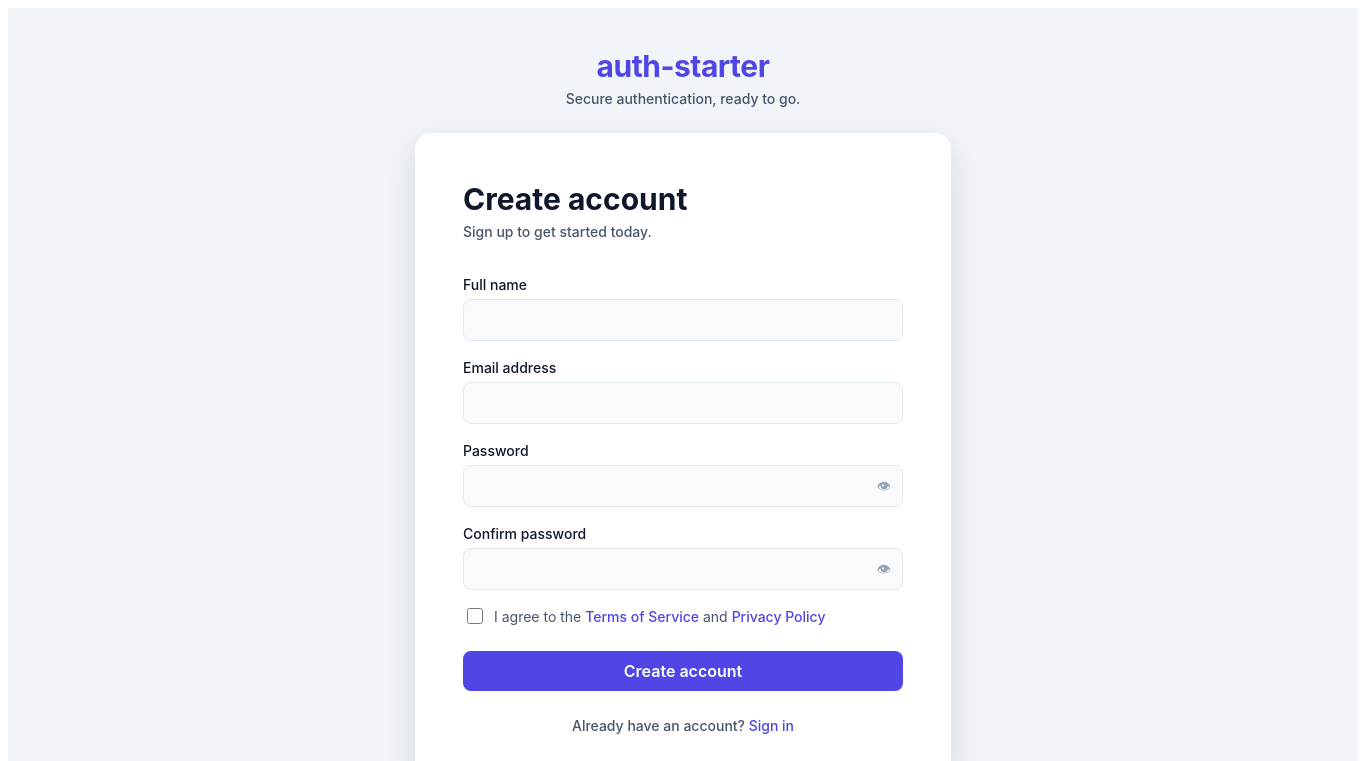
Test case: RegisterPage › inline re-validation after touch › updates password error inline after typing
Type "ab" into the password field labelled "Password" at (683, 486), box 463,465 -> 903,507
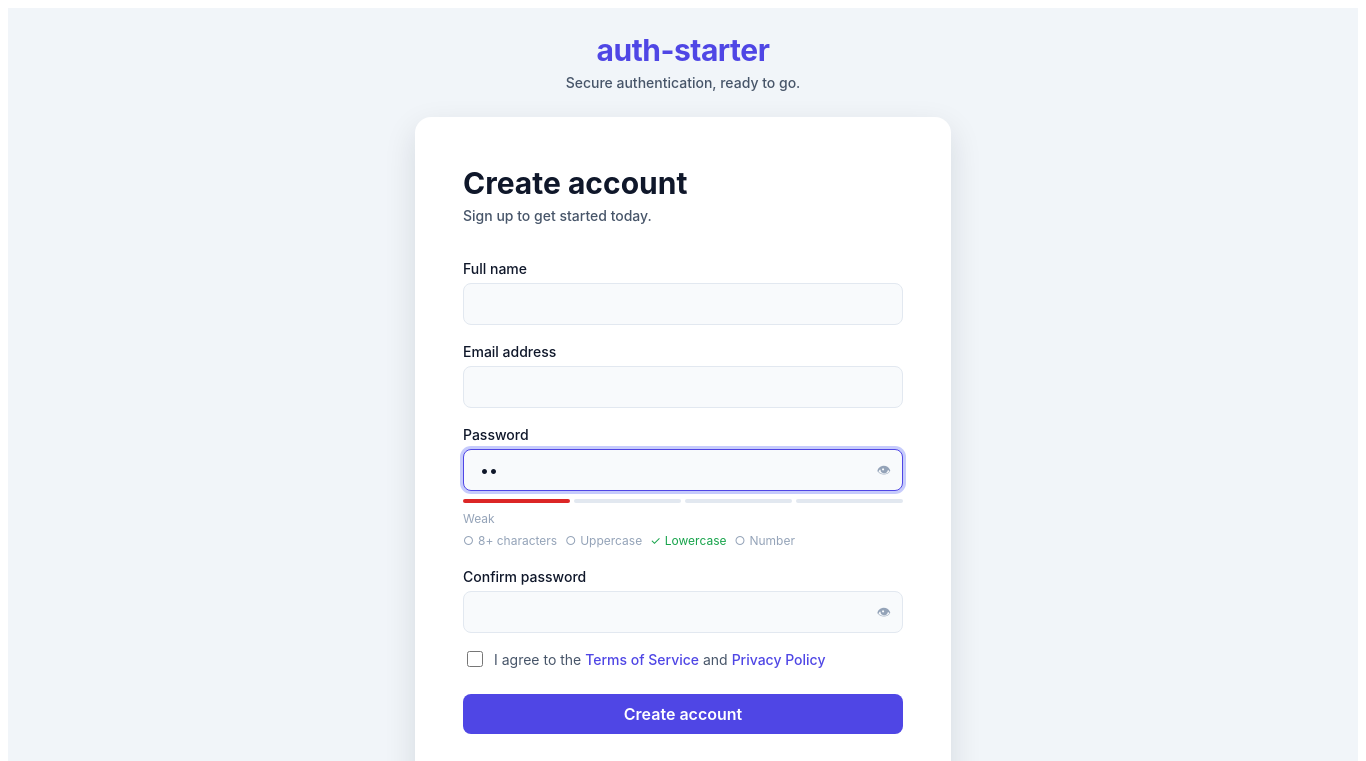
Leave the password field labelled "Password", box 463,449 -> 903,491
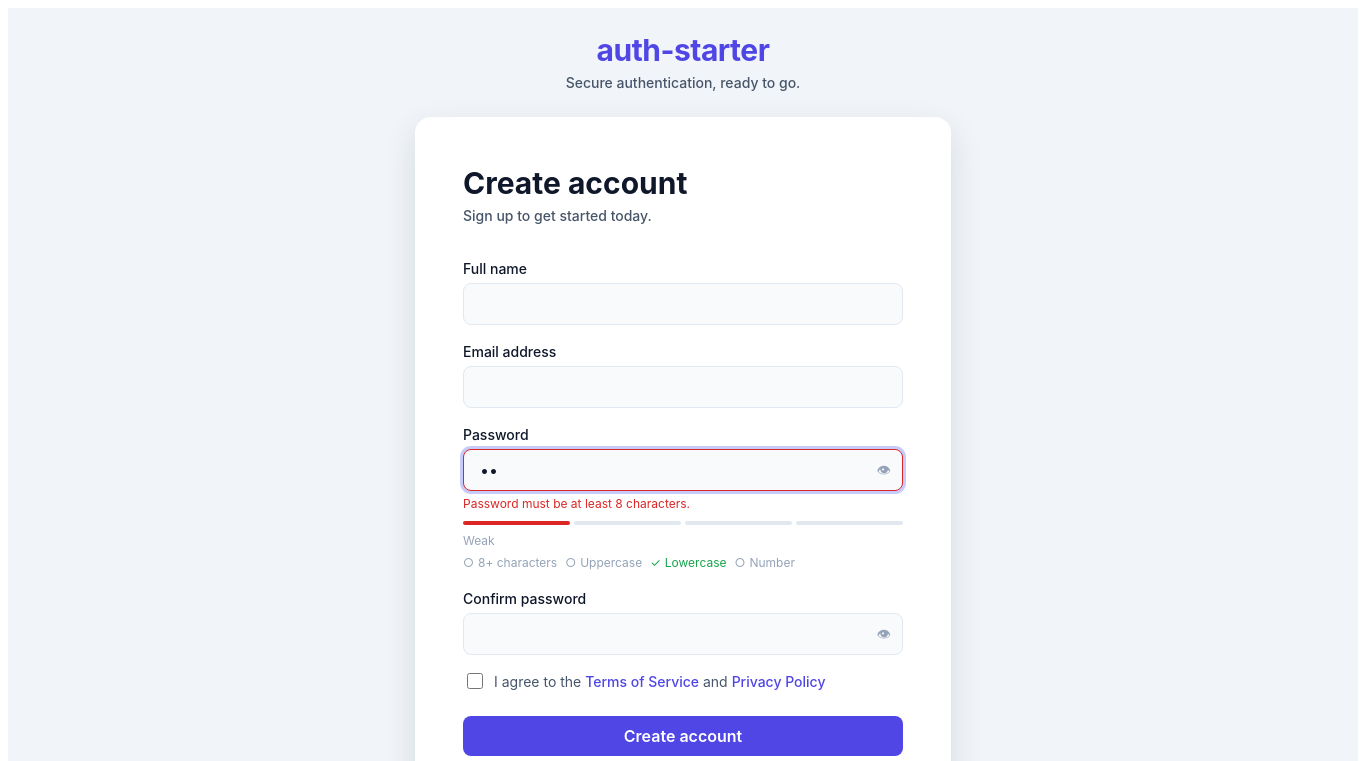
Result: the text "Password must be at least 8 characters." is shown at 463,496 -> 690,511
// type valid password
Clear the password field labelled "Password" at (683, 470), box 463,449 -> 903,491
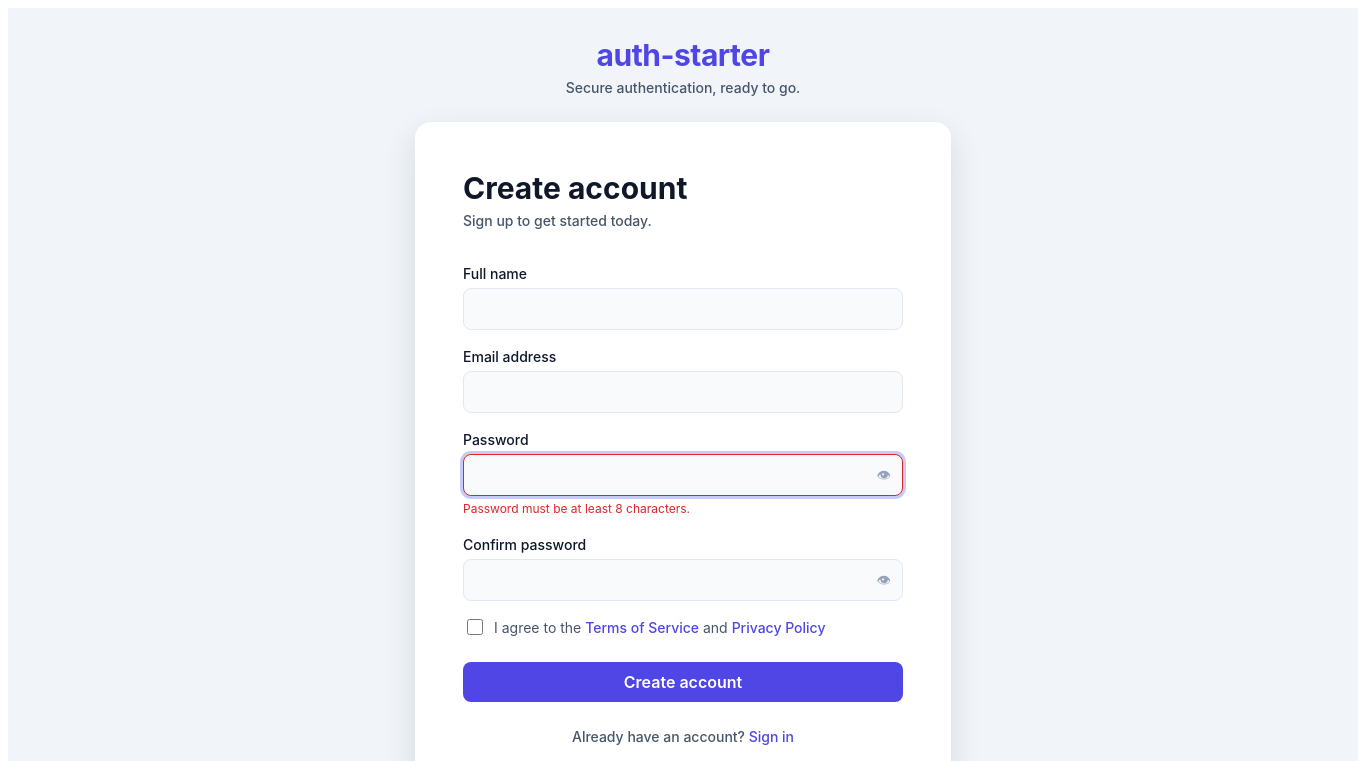
Type "ValidPass1" into the password field labelled "Password" at (683, 475), box 463,454 -> 903,496
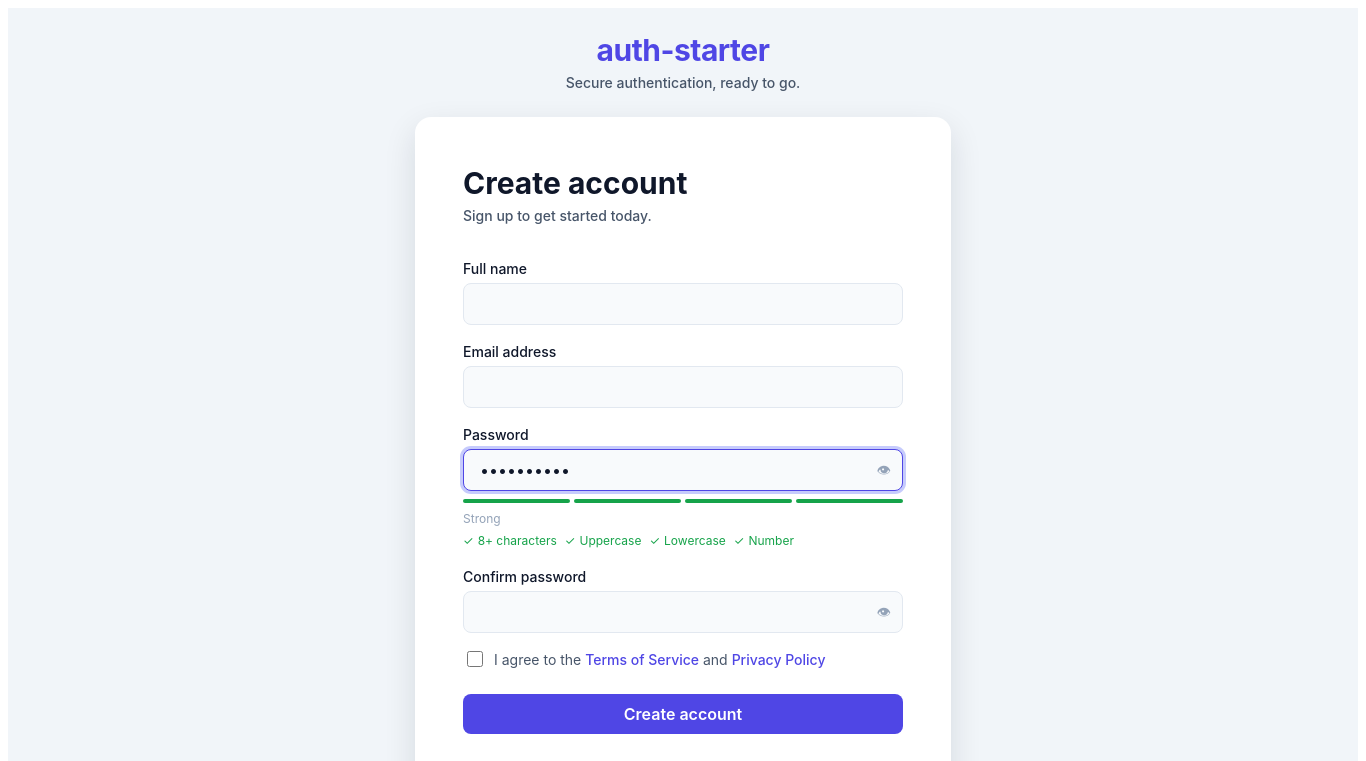
Result: the text "Password must be at least 8 characters" is gone
